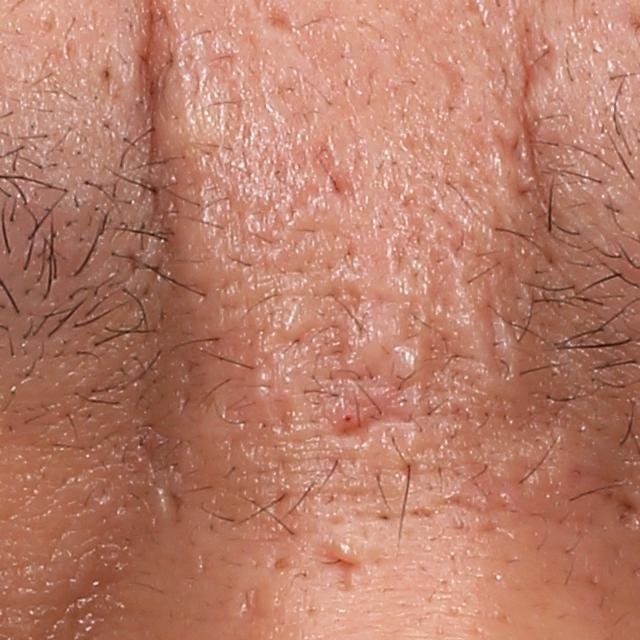atrophic_scar: (330, 402, 419, 441), (311, 147, 356, 199), (435, 51, 474, 107), (237, 586, 272, 632), (261, 7, 297, 33), (163, 481, 185, 517)
